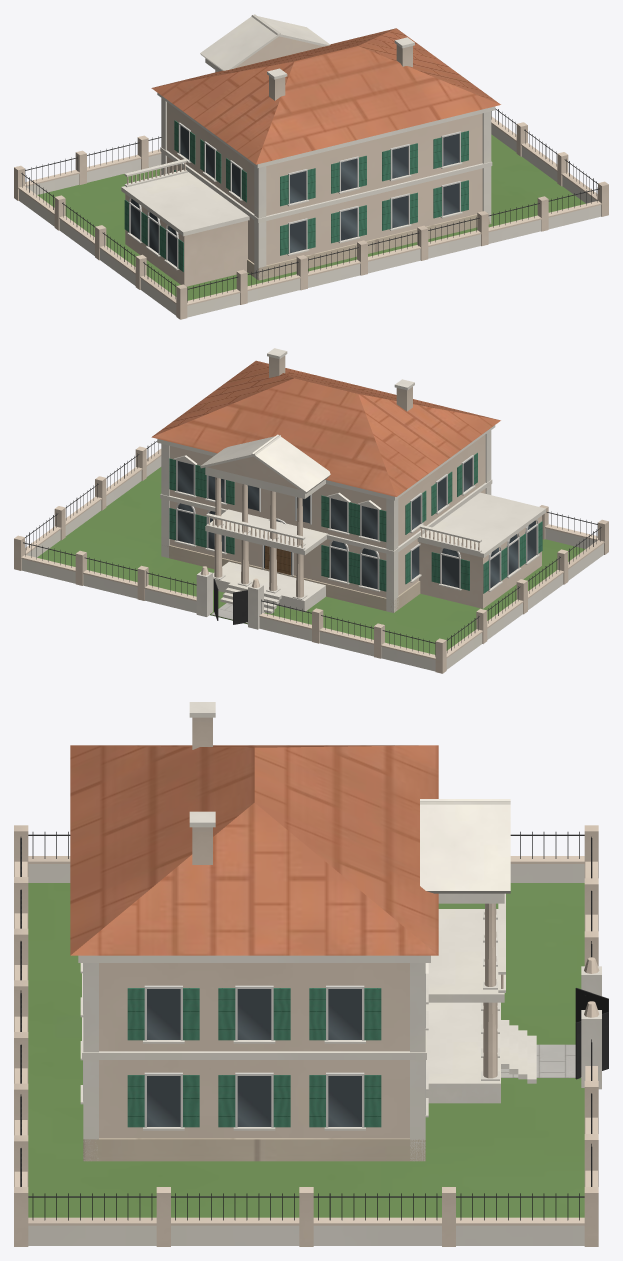
Rendered from villa-palace.glb.
3 renders of one model, top to bottom at view 1: azimuth 30°, elevation 25°; view 2: azimuth 150°, elevation 25°; view 3: azimuth 270°, elevation 25°, orthographic. The views are drawn at different scales.
Parts seen in each view (by area): view 1: villa; view 2: villa; view 3: villa.
Part boxes in pixels (box(x1,y1,x2,y2)): villa: box(14, 14, 608, 319); villa: box(14, 348, 608, 673); villa: box(14, 702, 608, 1246).
Bounding box in the file's own units: 33.55 × 12.8 × 22.94.
1 material, 1 textured.
